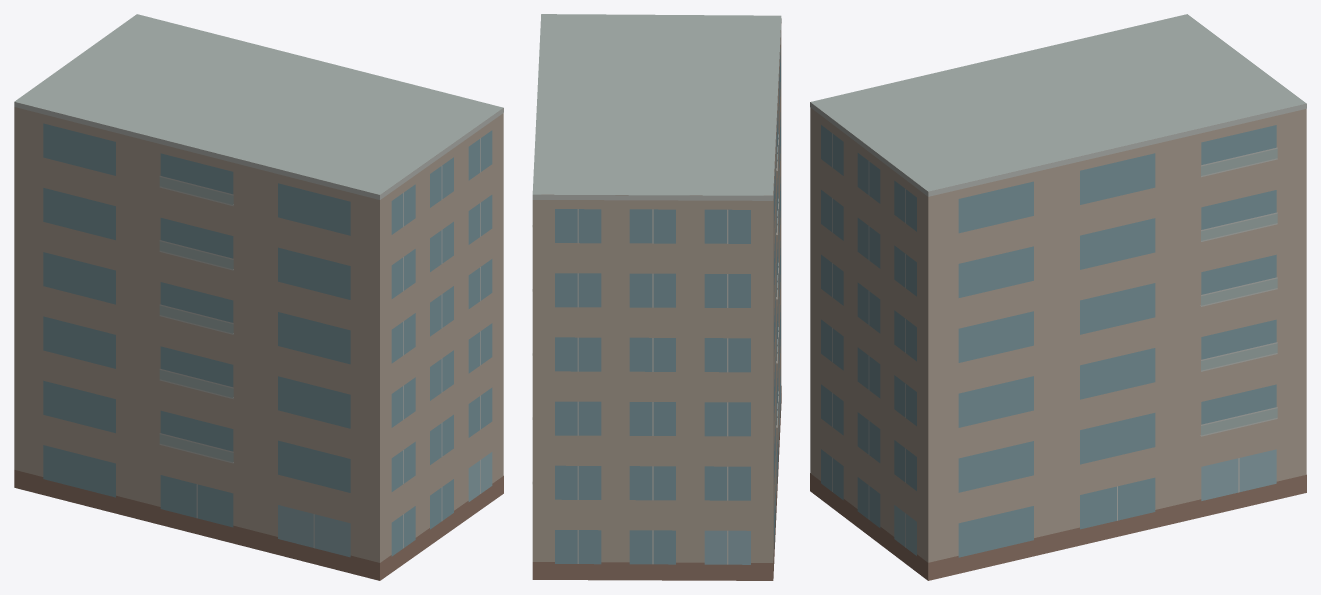
The model's file is survey-upis-32709345.glb.
3 renders of one model, left to right at view 1: azimuth 30°, elevation 25°; view 2: azimuth 150°, elevation 25°; view 3: azimuth 270°, elevation 25°, orthographic.
Visible parts, largest first — view 1: survey-upis-32709345.tmp; view 2: survey-upis-32709345.tmp; view 3: survey-upis-32709345.tmp.
Part boxes in pixels (bbox=[...]): survey-upis-32709345.tmp: bbox=[14, 14, 503, 580]; survey-upis-32709345.tmp: bbox=[532, 14, 781, 580]; survey-upis-32709345.tmp: bbox=[810, 14, 1306, 580].
Bounding box in the file's own units: 17.93 × 18.3 × 21.17.
